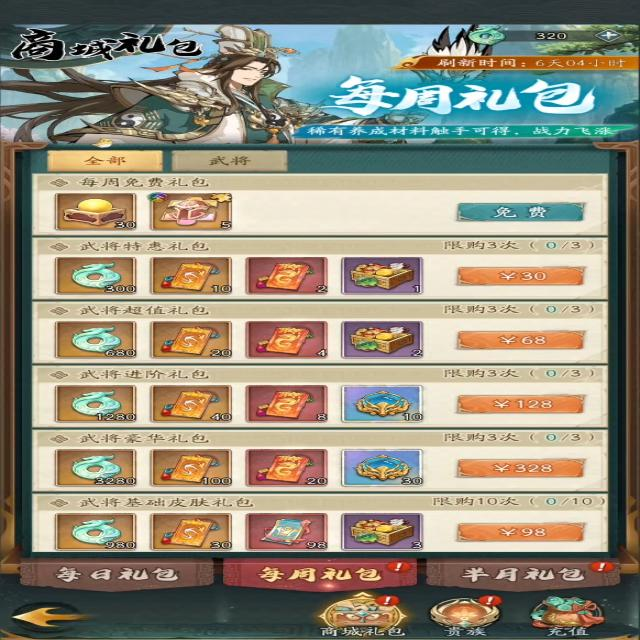hint-reddot: (476, 593, 506, 610), (586, 560, 616, 574), (376, 595, 401, 607)
operation-DailyGiftPack: (17, 560, 215, 593)
operation-HalfMonthGiftPack: (423, 558, 621, 592)
operation-WeeklyGiftPack: (224, 557, 416, 592)
operation-back: (6, 600, 91, 632)
operation-buy: (450, 457, 591, 480), (452, 199, 591, 222), (455, 393, 588, 413), (456, 522, 586, 542), (455, 329, 588, 348), (454, 266, 586, 285)
ref-buytext: (45, 494, 261, 511), (46, 429, 210, 446), (43, 367, 217, 383), (45, 302, 211, 318), (42, 175, 210, 189), (47, 239, 209, 252)
